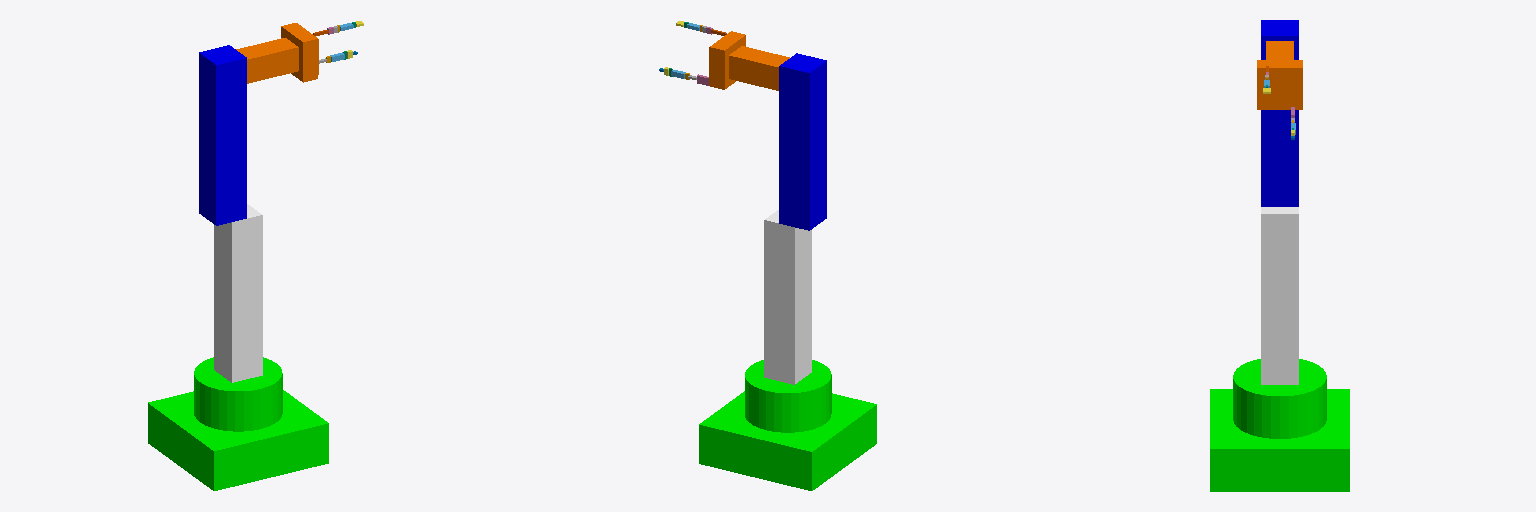
URDF robot description (robot):
<?xml version='1.0' encoding='utf-8'?>
<robot name="robot">
  <link name="base_link">
    <visual>
      <origin xyz="0 0 0.125" rpy="0 0 0" />
      <geometry>
        <box size="0.75 0.75 0.25" />
      </geometry>
      <material name="green" />
    </visual>
    <visual>
      <origin xyz="0 0 0.375" rpy="0 0 0" />
      <geometry>
        <cylinder length="0.25" radius="0.25" />
      </geometry>
      <material name="green">
        <color rgba="0 1 0 1" />
      </material>
    </visual>
    <collision>
      <geometry>
        <box size="0.75 0.75 0.5" />
      </geometry>
    </collision>
    <inertial>
      <mass value="0.5" />
      <inertia ixx="0.034" ixy="0.0" ixz="0.0" iyy="0.034" iyz="0.0" izz="0.034" />
    </inertial>
  </link>
  <link name="support_link">
    <visual>
      <origin xyz="0 0 0.5" rpy="0 0 0" />
      <geometry>
        <box size="0.2 0.2 1" />
      </geometry>
      <material name="white">
        <color rgba="1 1 1 1" />
      </material>
    </visual>
    <collision>
      <geometry>
        <box size="0.2 0.2 1" />
      </geometry>
    </collision>
    <inertial>
      <mass value="0.1" />
      <inertia ixx="0.01" ixy="0.0" ixz="0.0" iyy="0.01" iyz="0.0" izz="0.01" />
    </inertial>
  </link>
  <joint name="support_joint" type="continuous">
    <origin xyz="0 0 0.5" rpy="0 0 0" />
    <parent link="base_link" />
    <child link="support_link" />
    <axis xyz="0 0 1" />
  </joint>
  <link name="arm_link">
    <visual>
      <origin xyz="0 0 0.5" rpy="0 0 0" />
      <geometry>
        <box size="0.2 0.2 1" />
      </geometry>
      <material name="blue">
        <color rgba="0 0 1 1" />
      </material>
    </visual>
    <collision>
      <geometry>
        <box size="0.2 0.2 1" />
      </geometry>
    </collision>
    <inertial>
      <mass value="0.1" />
      <inertia ixx="0.01" ixy="0.0" ixz="0.0" iyy="0.01" iyz="0.0" izz="0.01" />
    </inertial>
  </link>
  <joint name="arm_joint" type="revolute">
    <origin xyz="-0.1 0 1" rpy="0 0 0" />
    <parent link="support_link" />
    <child link="arm_link" />
    <axis xyz="0 1 0" />
    <limit lower="-3.14" upper="3.14" effort="1.0" velocity="1.0" />
  </joint>
  <link name="wrist_link">
    <visual>
      <origin xyz="0 0 0.25" rpy="0 0 0" />
      <geometry>
        <box size="0.15 0.15 0.5" />
      </geometry>
      <material name="orange">
        <color rgba="1 0.5 0 1" />
      </material>
    </visual>
    <collision>
      <geometry>
        <box size="0.15 0.15 0.5" />
      </geometry>
    </collision>
    <inertial>
      <mass value="0.1" />
      <inertia ixx="0.01" ixy="0.0" ixz="0.0" iyy="0.01" iyz="0.0" izz="0.01" />
    </inertial>
  </link>
  <joint name="wrist_joint" type="fixed">
    <origin xyz="0 0 0.9" rpy="0 1.571 0" />
    <parent link="arm_link" />
    <child link="wrist_link" />
  </joint>
  <link name="palm_link">
    <visual>
      <origin xyz="0 0 0.05" rpy="0 0 0" />
      <geometry>
        <box size="0.25 0.25 0.1" />
      </geometry>
      <material name="orange" />
    </visual>
    <collision>
      <geometry>
        <box size="0.25 0.25 0.1" />
      </geometry>
    </collision>
    <inertial>
      <mass value="0.1" />
      <inertia ixx="0.01" ixy="0.0" ixz="0.0" iyy="0.01" iyz="0.0" izz="0.01" />
    </inertial>
  </link>
  <joint name="palm_joint" type="fixed">
    <origin xyz="0 0 0.45" rpy="0 0 0" />
    <parent link="wrist_link" />
    <child link="palm_link" />
  </joint>
  <link name="finger_link_0_0">
    <visual>
      <origin xyz="0 0 0.0065" rpy="0 0 0" />
      <geometry>
        <box size="0.015 0.013 0.013" />
      </geometry>
    </visual>
    <collision>
      <geometry>
        <box size="0.015 0.013 0.013" />
      </geometry>
    </collision>
    <inertial>
      <mass value="0.001" />
      <inertia ixx="0.0" iyy="0.0" izz="0.0" ixy="0" ixz="0" iyz="0" />
    </inertial>
  </link>
  <joint name="finger_joint_palm_link_to_finger_link_0_0" type="revolute">
    <origin xyz="0.125 0.07 0.1" rpy="0 0 0" />
    <parent link="palm_link" />
    <child link="finger_link_0_0" />
    <axis xyz="0.0 1.0 0.0" />
    <limit lower="-3.142" upper="3.142" effort="10" velocity="10" />
  </joint>
  <link name="finger_link_0_1">
    <visual>
      <origin xyz="0 0 0.0495" rpy="0 0 0" />
      <geometry>
        <box size="0.049 0.019 0.099" />
      </geometry>
    </visual>
    <collision>
      <geometry>
        <box size="0.049 0.019 0.099" />
      </geometry>
    </collision>
    <inertial>
      <mass value="0.028" />
      <inertia ixx="0.0" iyy="0.0" izz="0.0" ixy="0" ixz="0" iyz="0" />
    </inertial>
  </link>
  <joint name="finger_joint_finger_link_0_0_to_finger_link_0_1" type="revolute">
    <origin xyz="0.0 0.0 0.013" rpy="0 0 0" />
    <parent link="finger_link_0_0" />
    <child link="finger_link_0_1" />
    <axis xyz="1.0 0.0 0.0" />
    <limit lower="-3.142" upper="3.142" effort="10" velocity="10" />
  </joint>
  <link name="finger_link_0_2">
    <visual>
      <origin xyz="0 0 0.0265" rpy="0 0 0" />
      <geometry>
        <box size="0.013 0.021 0.053" />
      </geometry>
    </visual>
    <collision>
      <geometry>
        <box size="0.013 0.021 0.053" />
      </geometry>
    </collision>
    <inertial>
      <mass value="0.004" />
      <inertia ixx="0.0" iyy="0.0" izz="0.0" ixy="0" ixz="0" iyz="0" />
    </inertial>
  </link>
  <joint name="finger_joint_finger_link_0_1_to_finger_link_0_2" type="revolute">
    <origin xyz="0.0 0.0 0.099" rpy="0 0 0" />
    <parent link="finger_link_0_1" />
    <child link="finger_link_0_2" />
    <axis xyz="0.0 1.0 0.0" />
    <limit lower="-3.142" upper="3.142" effort="10" velocity="10" />
  </joint>
  <link name="finger_link_0_3">
    <visual>
      <origin xyz="0 0 0.014" rpy="0 0 0" />
      <geometry>
        <box size="0.036 0.014 0.028" />
      </geometry>
    </visual>
    <collision>
      <geometry>
        <box size="0.036 0.014 0.028" />
      </geometry>
    </collision>
    <inertial>
      <mass value="0.004" />
      <inertia ixx="0.0" iyy="0.0" izz="0.0" ixy="0" ixz="0" iyz="0" />
    </inertial>
  </link>
  <joint name="finger_joint_finger_link_0_2_to_finger_link_0_3" type="revolute">
    <origin xyz="0.0 0.0 0.053" rpy="0 0 0" />
    <parent link="finger_link_0_2" />
    <child link="finger_link_0_3" />
    <axis xyz="0.0 1.0 0.0" />
    <limit lower="-3.142" upper="3.142" effort="10" velocity="10" />
  </joint>
  <link name="finger_link_0_4">
    <visual>
      <origin xyz="0 0 0.0415" rpy="0 0 0" />
      <geometry>
        <box size="0.032 0.028 0.083" />
      </geometry>
    </visual>
    <collision>
      <geometry>
        <box size="0.032 0.028 0.083" />
      </geometry>
    </collision>
    <inertial>
      <mass value="0.022" />
      <inertia ixx="0.0" iyy="0.0" izz="0.0" ixy="0" ixz="0" iyz="0" />
    </inertial>
  </link>
  <joint name="finger_joint_finger_link_0_3_to_finger_link_0_4" type="revolute">
    <origin xyz="0.0 0.0 0.028" rpy="0 0 0" />
    <parent link="finger_link_0_3" />
    <child link="finger_link_0_4" />
    <axis xyz="1.0 0.0 0.0" />
    <limit lower="-3.142" upper="3.142" effort="10" velocity="10" />
  </joint>
  <link name="finger_link_0_5">
    <visual>
      <origin xyz="0 0 0.0105" rpy="0 0 0" />
      <geometry>
        <box size="0.048 0.011 0.021" />
      </geometry>
    </visual>
    <collision>
      <geometry>
        <box size="0.048 0.011 0.021" />
      </geometry>
    </collision>
    <inertial>
      <mass value="0.003" />
      <inertia ixx="0.0" iyy="0.0" izz="0.0" ixy="0" ixz="0" iyz="0" />
    </inertial>
  </link>
  <joint name="finger_joint_finger_link_0_4_to_finger_link_0_5" type="revolute">
    <origin xyz="0.0 0.0 0.083" rpy="0 0 0" />
    <parent link="finger_link_0_4" />
    <child link="finger_link_0_5" />
    <axis xyz="1.0 0.0 0.0" />
    <limit lower="-3.142" upper="3.142" effort="10" velocity="10" />
  </joint>
  <link name="finger_link_0_6">
    <visual>
      <origin xyz="0 0 0.0165" rpy="0 0 0" />
      <geometry>
        <box size="0.041 0.023 0.033" />
      </geometry>
    </visual>
    <collision>
      <geometry>
        <box size="0.041 0.023 0.033" />
      </geometry>
    </collision>
    <inertial>
      <mass value="0.009" />
      <inertia ixx="0.0" iyy="0.0" izz="0.0" ixy="0" ixz="0" iyz="0" />
    </inertial>
  </link>
  <joint name="finger_joint_finger_link_0_5_to_finger_link_0_6" type="revolute">
    <origin xyz="0.0 0.0 0.021" rpy="0 0 0" />
    <parent link="finger_link_0_5" />
    <child link="finger_link_0_6" />
    <axis xyz="0.0 1.0 0.0" />
    <limit lower="-3.142" upper="3.142" effort="10" velocity="10" />
  </joint>
  <link name="finger_link_0_7">
    <visual>
      <origin xyz="0 0 0.016" rpy="0 0 0" />
      <geometry>
        <box size="0.011 0.023 0.032" />
      </geometry>
    </visual>
    <collision>
      <geometry>
        <box size="0.011 0.023 0.032" />
      </geometry>
    </collision>
    <inertial>
      <mass value="0.002" />
      <inertia ixx="0.0" iyy="0.0" izz="0.0" ixy="0" ixz="0" iyz="0" />
    </inertial>
  </link>
  <joint name="finger_joint_finger_link_0_6_to_finger_link_0_7" type="revolute">
    <origin xyz="0.0 0.0 0.033" rpy="0 0 0" />
    <parent link="finger_link_0_6" />
    <child link="finger_link_0_7" />
    <axis xyz="1.0 0.0 0.0" />
    <limit lower="-3.142" upper="3.142" effort="10" velocity="10" />
  </joint>
  <link name="finger_link_1_0">
    <visual>
      <origin xyz="0 0 0.047" rpy="0 0 0" />
      <geometry>
        <box size="0.019 0.015 0.094" />
      </geometry>
    </visual>
    <collision>
      <geometry>
        <box size="0.019 0.015 0.094" />
      </geometry>
    </collision>
    <inertial>
      <mass value="0.008" />
      <inertia ixx="0.0" iyy="0.0" izz="0.0" ixy="0" ixz="0" iyz="0" />
    </inertial>
  </link>
  <joint name="finger_joint_palm_link_to_finger_link_1_0" type="revolute">
    <origin xyz="-0.125 -0.068 0.1" rpy="0 0 0" />
    <parent link="palm_link" />
    <child link="finger_link_1_0" />
    <axis xyz="0.0 -1.0 0.0" />
    <limit lower="-3.142" upper="3.142" effort="10" velocity="10" />
  </joint>
  <link name="finger_link_1_1">
    <visual>
      <origin xyz="0 0 0.0185" rpy="0 0 0" />
      <geometry>
        <box size="0.037 0.016 0.037" />
      </geometry>
    </visual>
    <collision>
      <geometry>
        <box size="0.037 0.016 0.037" />
      </geometry>
    </collision>
    <inertial>
      <mass value="0.007" />
      <inertia ixx="0.0" iyy="0.0" izz="0.0" ixy="0" ixz="0" iyz="0" />
    </inertial>
  </link>
  <joint name="finger_joint_finger_link_1_0_to_finger_link_1_1" type="revolute">
    <origin xyz="0.0 0.0 0.094" rpy="0 0 0" />
    <parent link="finger_link_1_0" />
    <child link="finger_link_1_1" />
    <axis xyz="0.0 1.0 0.0" />
    <limit lower="-3.142" upper="3.142" effort="10" velocity="10" />
  </joint>
  <link name="finger_link_1_2">
    <visual>
      <origin xyz="0 0 0.013" rpy="0 0 0" />
      <geometry>
        <box size="0.033 0.019 0.026" />
      </geometry>
    </visual>
    <collision>
      <geometry>
        <box size="0.033 0.019 0.026" />
      </geometry>
    </collision>
    <inertial>
      <mass value="0.005" />
      <inertia ixx="0.0" iyy="0.0" izz="0.0" ixy="0" ixz="0" iyz="0" />
    </inertial>
  </link>
  <joint name="finger_joint_finger_link_1_1_to_finger_link_1_2" type="revolute">
    <origin xyz="0.0 0.0 0.037" rpy="0 0 0" />
    <parent link="finger_link_1_1" />
    <child link="finger_link_1_2" />
    <axis xyz="0.0 1.0 0.0" />
    <limit lower="-3.142" upper="3.142" effort="10" velocity="10" />
  </joint>
  <link name="finger_link_1_3">
    <visual>
      <origin xyz="0 0 0.0075" rpy="0 0 0" />
      <geometry>
        <box size="0.04 0.012 0.015" />
      </geometry>
    </visual>
    <collision>
      <geometry>
        <box size="0.04 0.012 0.015" />
      </geometry>
    </collision>
    <inertial>
      <mass value="0.002" />
      <inertia ixx="0.0" iyy="0.0" izz="0.0" ixy="0" ixz="0" iyz="0" />
    </inertial>
  </link>
  <joint name="finger_joint_finger_link_1_2_to_finger_link_1_3" type="revolute">
    <origin xyz="0.0 0.0 0.026" rpy="0 0 0" />
    <parent link="finger_link_1_2" />
    <child link="finger_link_1_3" />
    <axis xyz="0.0 1.0 0.0" />
    <limit lower="-3.142" upper="3.142" effort="10" velocity="10" />
  </joint>
  <link name="finger_link_1_4">
    <visual>
      <origin xyz="0 0 0.04" rpy="0 0 0" />
      <geometry>
        <box size="0.022 0.034 0.08" />
      </geometry>
    </visual>
    <collision>
      <geometry>
        <box size="0.022 0.034 0.08" />
      </geometry>
    </collision>
    <inertial>
      <mass value="0.018" />
      <inertia ixx="0.0" iyy="0.0" izz="0.0" ixy="0" ixz="0" iyz="0" />
    </inertial>
  </link>
  <joint name="finger_joint_finger_link_1_3_to_finger_link_1_4" type="revolute">
    <origin xyz="0.0 0.0 0.015" rpy="0 0 0" />
    <parent link="finger_link_1_3" />
    <child link="finger_link_1_4" />
    <axis xyz="1.0 0.0 0.0" />
    <limit lower="-3.142" upper="3.142" effort="10" velocity="10" />
  </joint>
  <link name="finger_link_1_5">
    <visual>
      <origin xyz="0 0 0.011" rpy="0 0 0" />
      <geometry>
        <box size="0.032 0.013 0.022" />
      </geometry>
    </visual>
    <collision>
      <geometry>
        <box size="0.032 0.013 0.022" />
      </geometry>
    </collision>
    <inertial>
      <mass value="0.003" />
      <inertia ixx="0.0" iyy="0.0" izz="0.0" ixy="0" ixz="0" iyz="0" />
    </inertial>
  </link>
  <joint name="finger_joint_finger_link_1_4_to_finger_link_1_5" type="revolute">
    <origin xyz="0.0 0.0 0.08" rpy="0 0 0" />
    <parent link="finger_link_1_4" />
    <child link="finger_link_1_5" />
    <axis xyz="0.0 1.0 0.0" />
    <limit lower="-3.142" upper="3.142" effort="10" velocity="10" />
  </joint>
  <link name="finger_link_1_6">
    <visual>
      <origin xyz="0 0 0.023" rpy="0 0 0" />
      <geometry>
        <box size="0.014 0.043 0.046" />
      </geometry>
    </visual>
    <collision>
      <geometry>
        <box size="0.014 0.043 0.046" />
      </geometry>
    </collision>
    <inertial>
      <mass value="0.008" />
      <inertia ixx="0.0" iyy="0.0" izz="0.0" ixy="0" ixz="0" iyz="0" />
    </inertial>
  </link>
  <joint name="finger_joint_finger_link_1_5_to_finger_link_1_6" type="revolute">
    <origin xyz="0.0 0.0 0.022" rpy="0 0 0" />
    <parent link="finger_link_1_5" />
    <child link="finger_link_1_6" />
    <axis xyz="1.0 0.0 0.0" />
    <limit lower="-3.142" upper="3.142" effort="10" velocity="10" />
  </joint>
</robot>

--- Facts derived from the render (not from the file) ---
Views: 3 orthographic renders of the robot side by side, from view 1: azimuth 30°, elevation 25°; view 2: azimuth 150°, elevation 25°; view 3: azimuth 270°, elevation 25°.
Robot: robot — 20 links, 19 joints (16 revolute, 1 continuous, 2 fixed); root link base_link; default pose: every joint at zero.
Visible links, largest first — view 1: base_link, arm_link, support_link, wrist_link, palm_link; view 2: base_link, arm_link, support_link, wrist_link, palm_link; view 3: base_link, support_link, arm_link, palm_link, wrist_link.
Boxes of the visible links, box(x1,y1,x2,y2) form: base_link: box(148, 357, 328, 490); arm_link: box(199, 45, 246, 225); support_link: box(214, 204, 262, 382); wrist_link: box(236, 38, 298, 83); palm_link: box(281, 23, 318, 82); base_link: box(699, 360, 876, 490); arm_link: box(779, 53, 826, 230); support_link: box(764, 210, 811, 384); wrist_link: box(729, 46, 789, 90); palm_link: box(709, 31, 745, 89); base_link: box(1210, 359, 1349, 491); support_link: box(1261, 207, 1298, 384); arm_link: box(1261, 20, 1298, 206); palm_link: box(1257, 60, 1302, 109); wrist_link: box(1266, 41, 1293, 59).
Size in the robot's own frame: 1.19 by 0.75 by 2.54 metres.
Geometry: primitives only (box / cylinder / sphere), no mesh files.